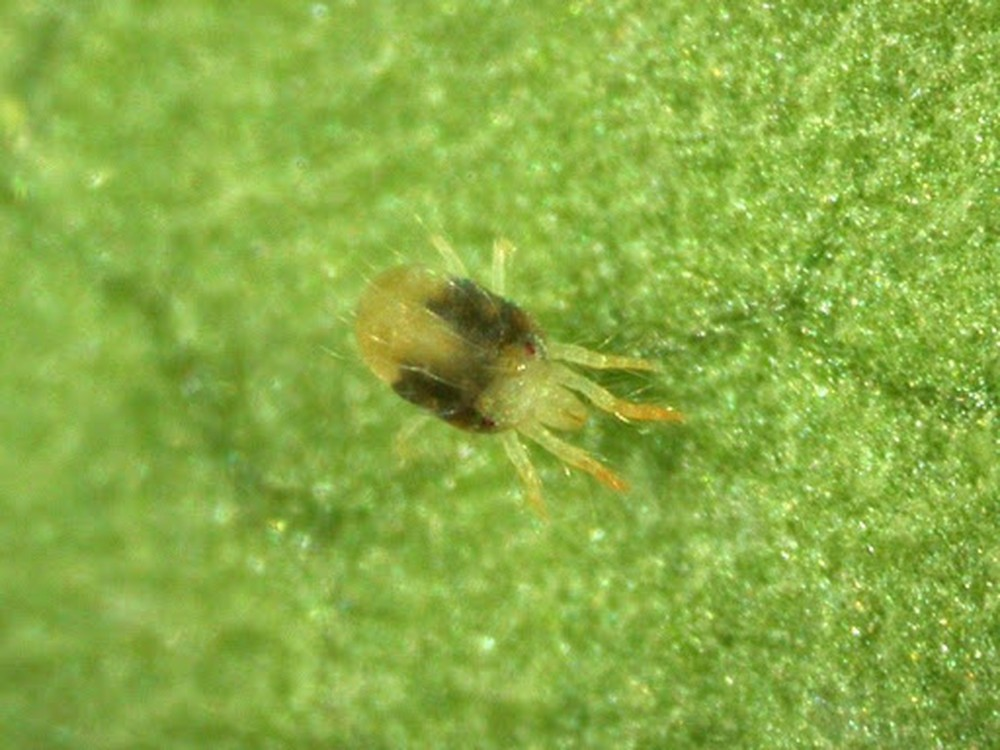Aracnido Rojo: (327, 215, 700, 536)
